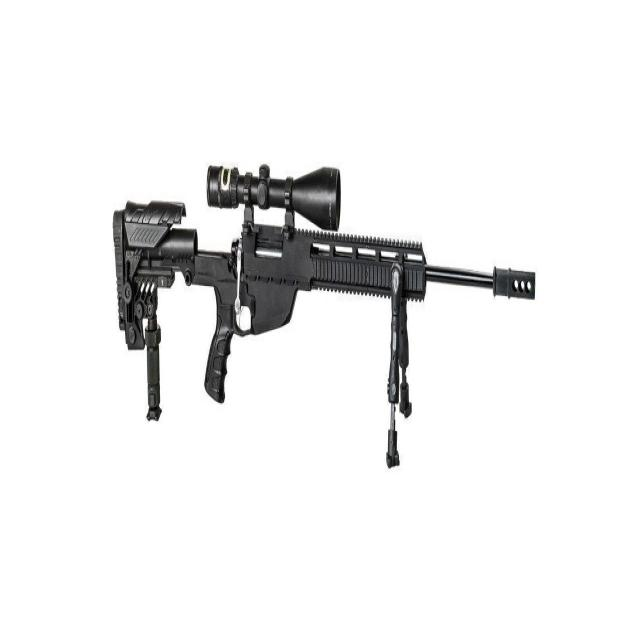Rifle: (112, 165, 536, 425)
